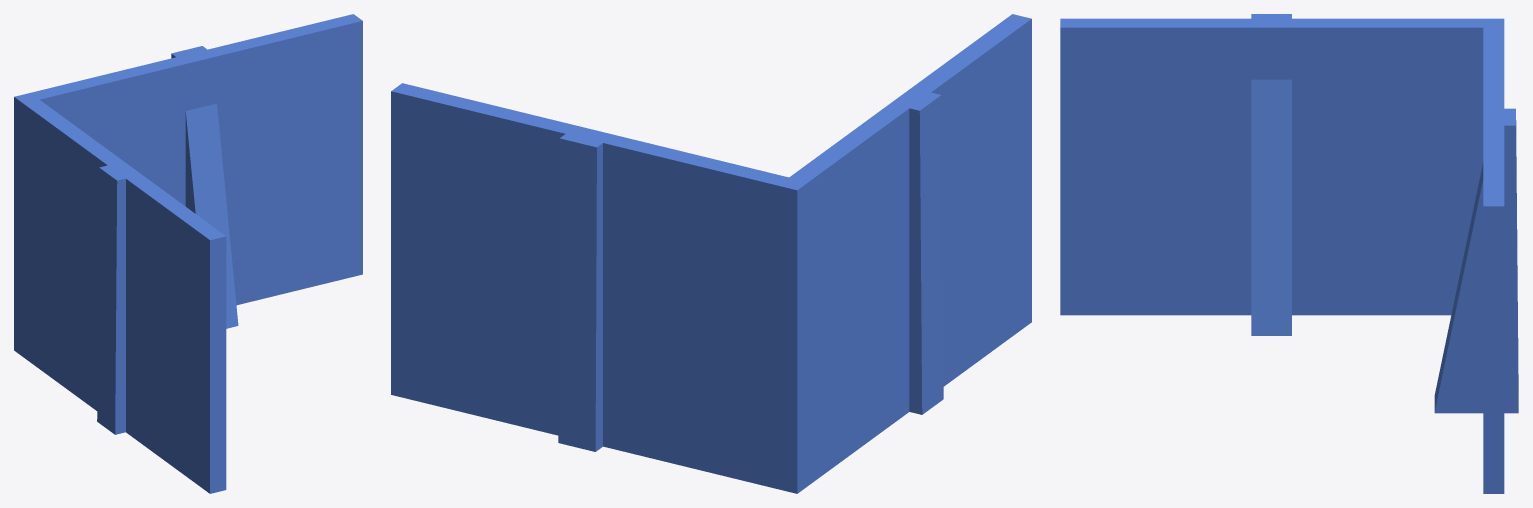
The model's file is WallAstra_Corner_Square_Inner_Collision.fbx.
3 renders of one model, left to right at view 1: azimuth 30°, elevation 25°; view 2: azimuth 150°, elevation 25°; view 3: azimuth 270°, elevation 25°, orthographic. The views are drawn at different scales.
Parts seen in each view (by area): view 1: WallAstra_Corner_Square_Inner_Collision; view 2: WallAstra_Corner_Square_Inner_Collision; view 3: WallAstra_Corner_Square_Inner_Collision.
Boxes of the visible parts, <box> form: WallAstra_Corner_Square_Inner_Collision: <box>14,14,362,493</box>; WallAstra_Corner_Square_Inner_Collision: <box>391,14,1031,493</box>; WallAstra_Corner_Square_Inner_Collision: <box>1060,14,1518,493</box>.
Size of the model in its own units: 433 by 300 by 433.
